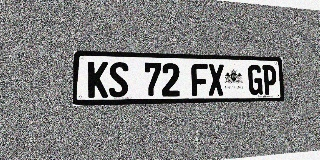2: (162, 63, 180, 97)
7: (143, 63, 162, 97)
F: (191, 64, 208, 96)
G: (248, 65, 263, 95)
K: (88, 61, 108, 98)
P: (262, 65, 277, 95)
S: (109, 62, 128, 97)
X: (208, 64, 224, 96)
